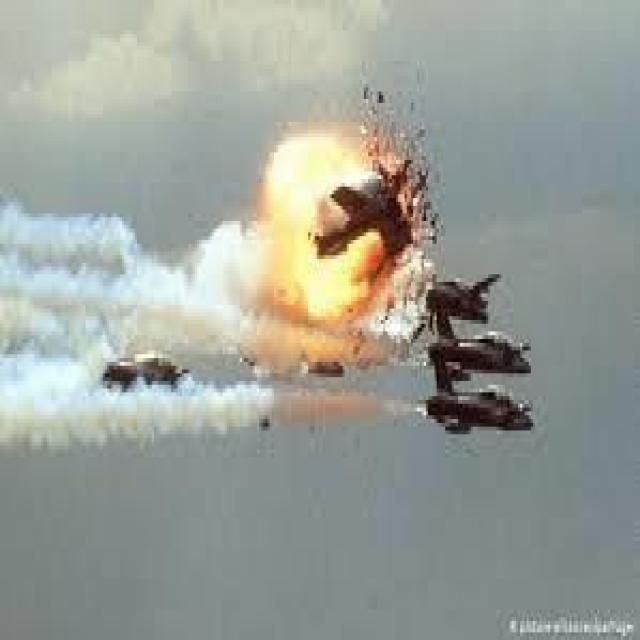Tanks: (316, 156, 418, 271), (424, 372, 537, 456), (427, 310, 540, 386), (100, 333, 188, 398), (427, 257, 502, 326)
